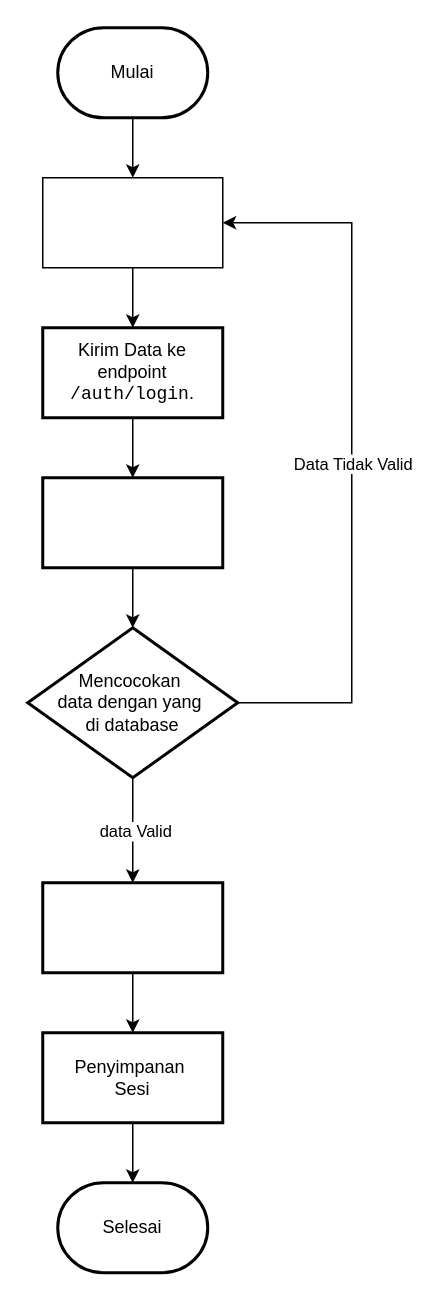
Some shapes in this 438 by 1299 pixel diagram are drawn without their labels. Here are the shapes that lost their labels. From the top down, the centre of each, then its label:
the point at 132,222: Penggunak Memasukan data
the point at 132,522: Verifikasi di Service : AuthService
the point at 132,927: Pembuatan Token JWT
